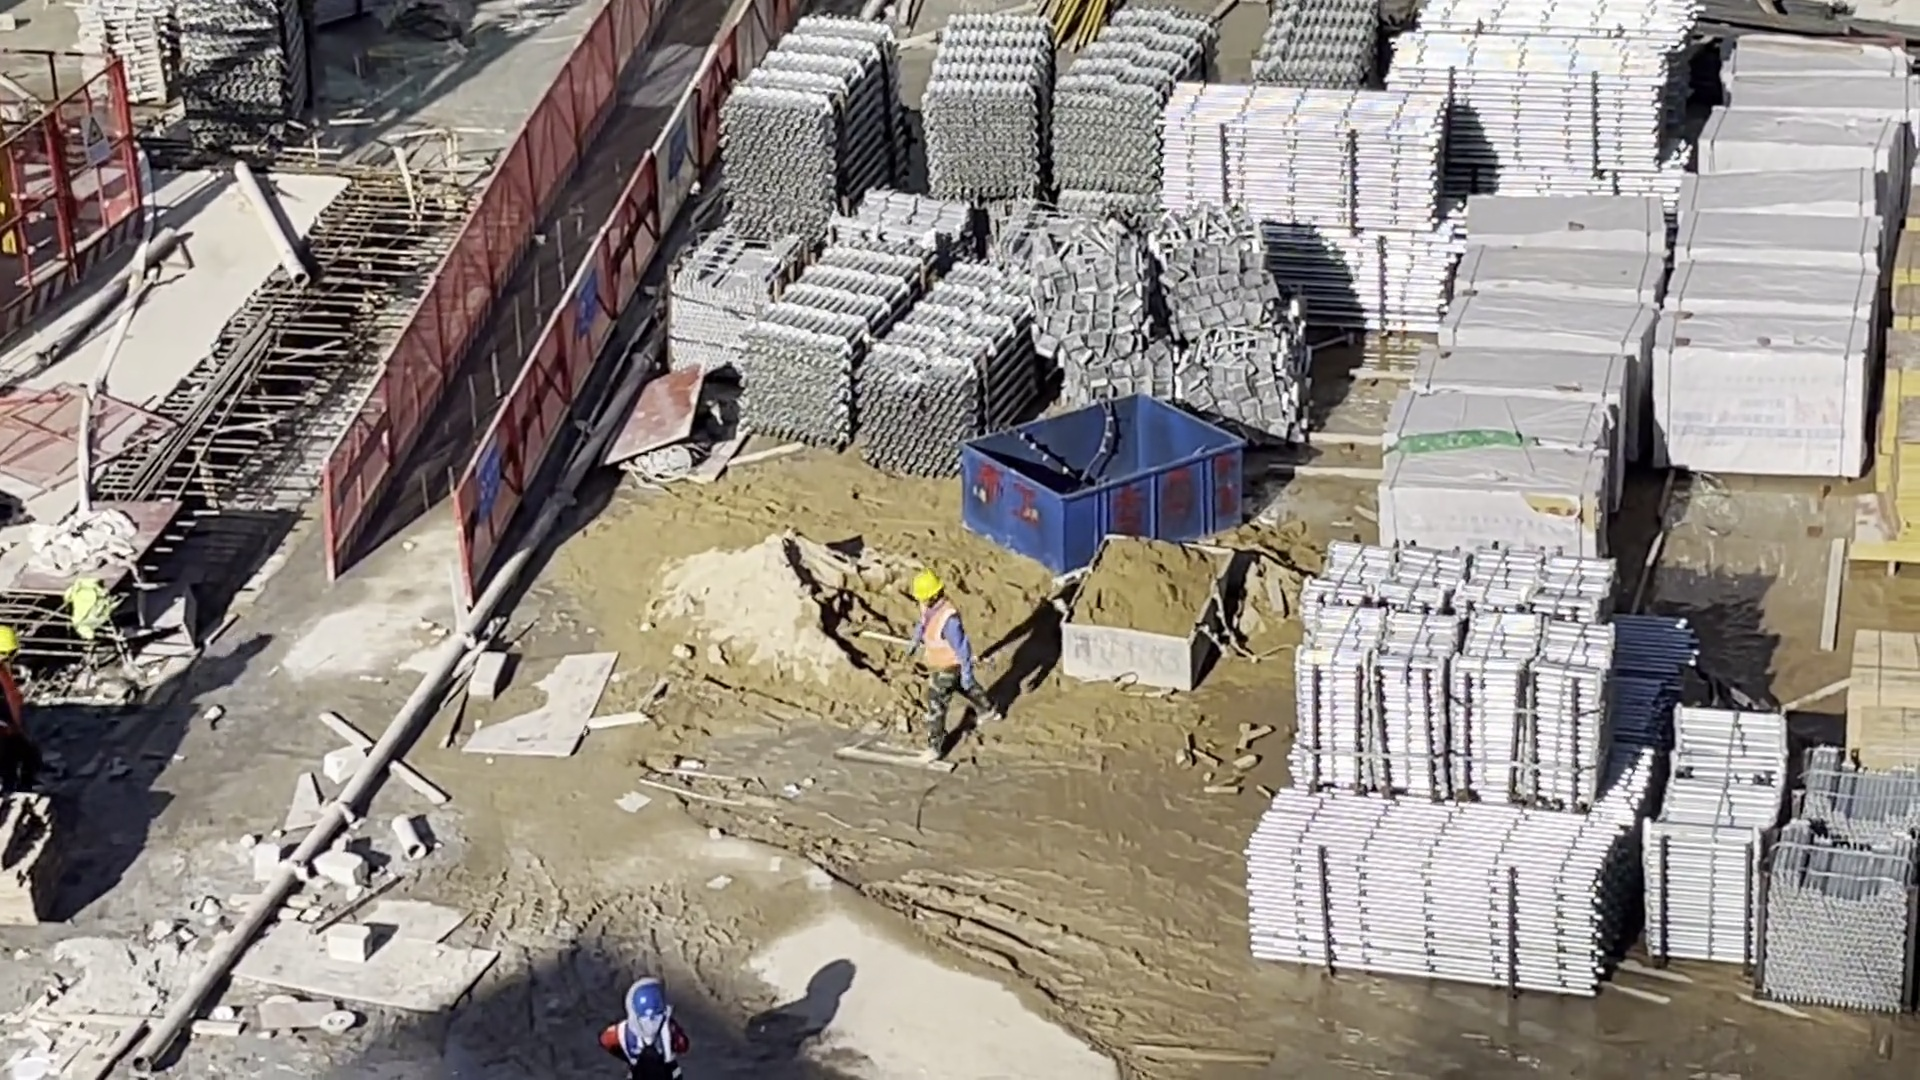board: (1879, 203, 1920, 560), (1852, 631, 1920, 757)
fence: (340, 3, 744, 576)
helmet: (632, 987, 666, 1020), (913, 572, 945, 600), (2, 620, 20, 653)
hopper: (965, 395, 1242, 574), (1059, 535, 1233, 689)
person: (912, 574, 1006, 757), (594, 983, 692, 1080), (2, 619, 28, 816)
scaffold: (1293, 542, 1612, 803), (1251, 788, 1628, 996), (1162, 80, 1447, 335), (752, 245, 1044, 476), (933, 7, 1217, 203), (1751, 751, 1920, 1015), (1385, 31, 1661, 170), (727, 18, 894, 230), (1639, 710, 1773, 958), (179, 1, 308, 131), (1256, 1, 1375, 89), (83, 1, 165, 103)
slogan: (475, 431, 500, 516), (574, 270, 596, 338)
vest: (923, 601, 963, 676), (621, 1019, 679, 1069), (1, 670, 20, 730)
